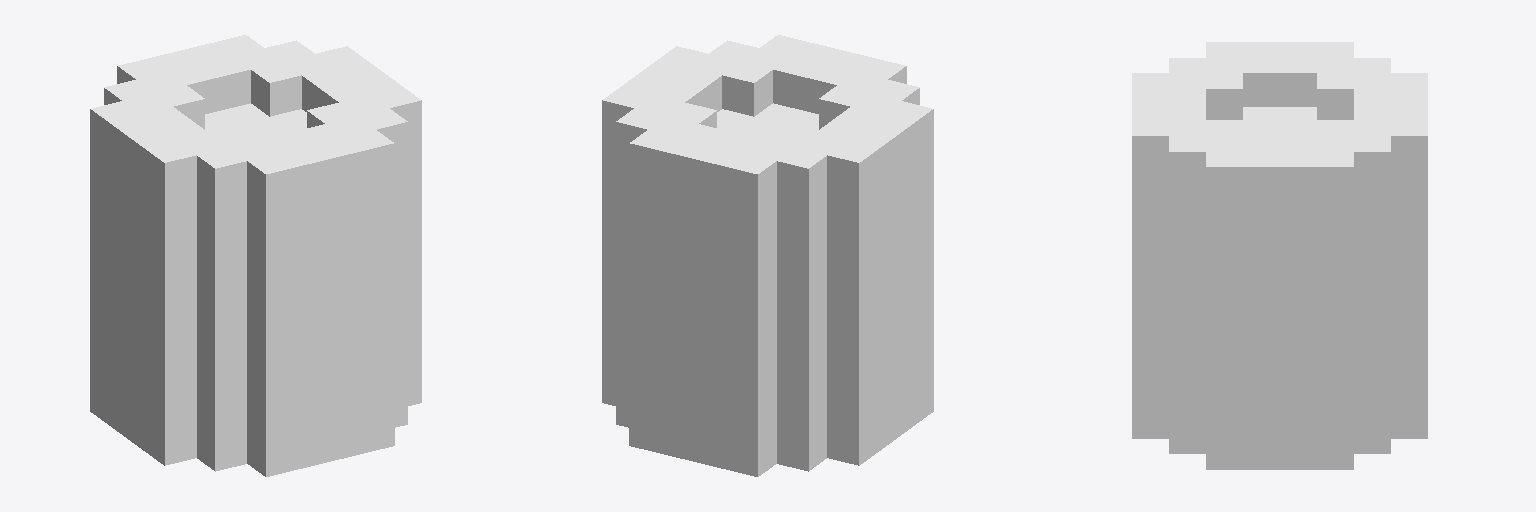
The model's file is prop_tire_1.obj.
3 views of the same model, side by side, from view 1: azimuth 30°, elevation 25°; view 2: azimuth 150°, elevation 25°; view 3: azimuth 270°, elevation 25° (orthographic).
Visible parts, largest first — view 1: object 1; view 2: object 1; view 3: object 1.
Boxes of the visible parts, <box> form: object 1: <box>90,35,421,476</box>; object 1: <box>602,35,933,476</box>; object 1: <box>1132,42,1427,469</box>.
Bounding box in the file's own units: 0.8 × 0.9 × 0.8.